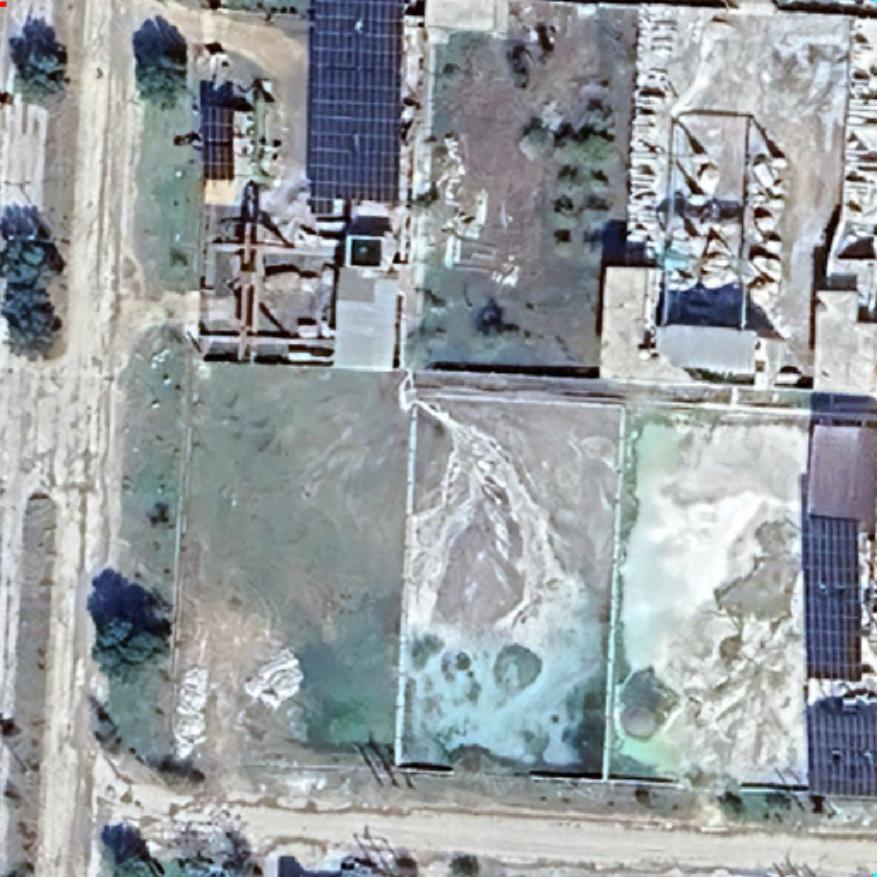Solarpanel: (304, 0, 408, 218), (796, 505, 870, 687), (802, 694, 876, 802), (197, 100, 237, 182)
